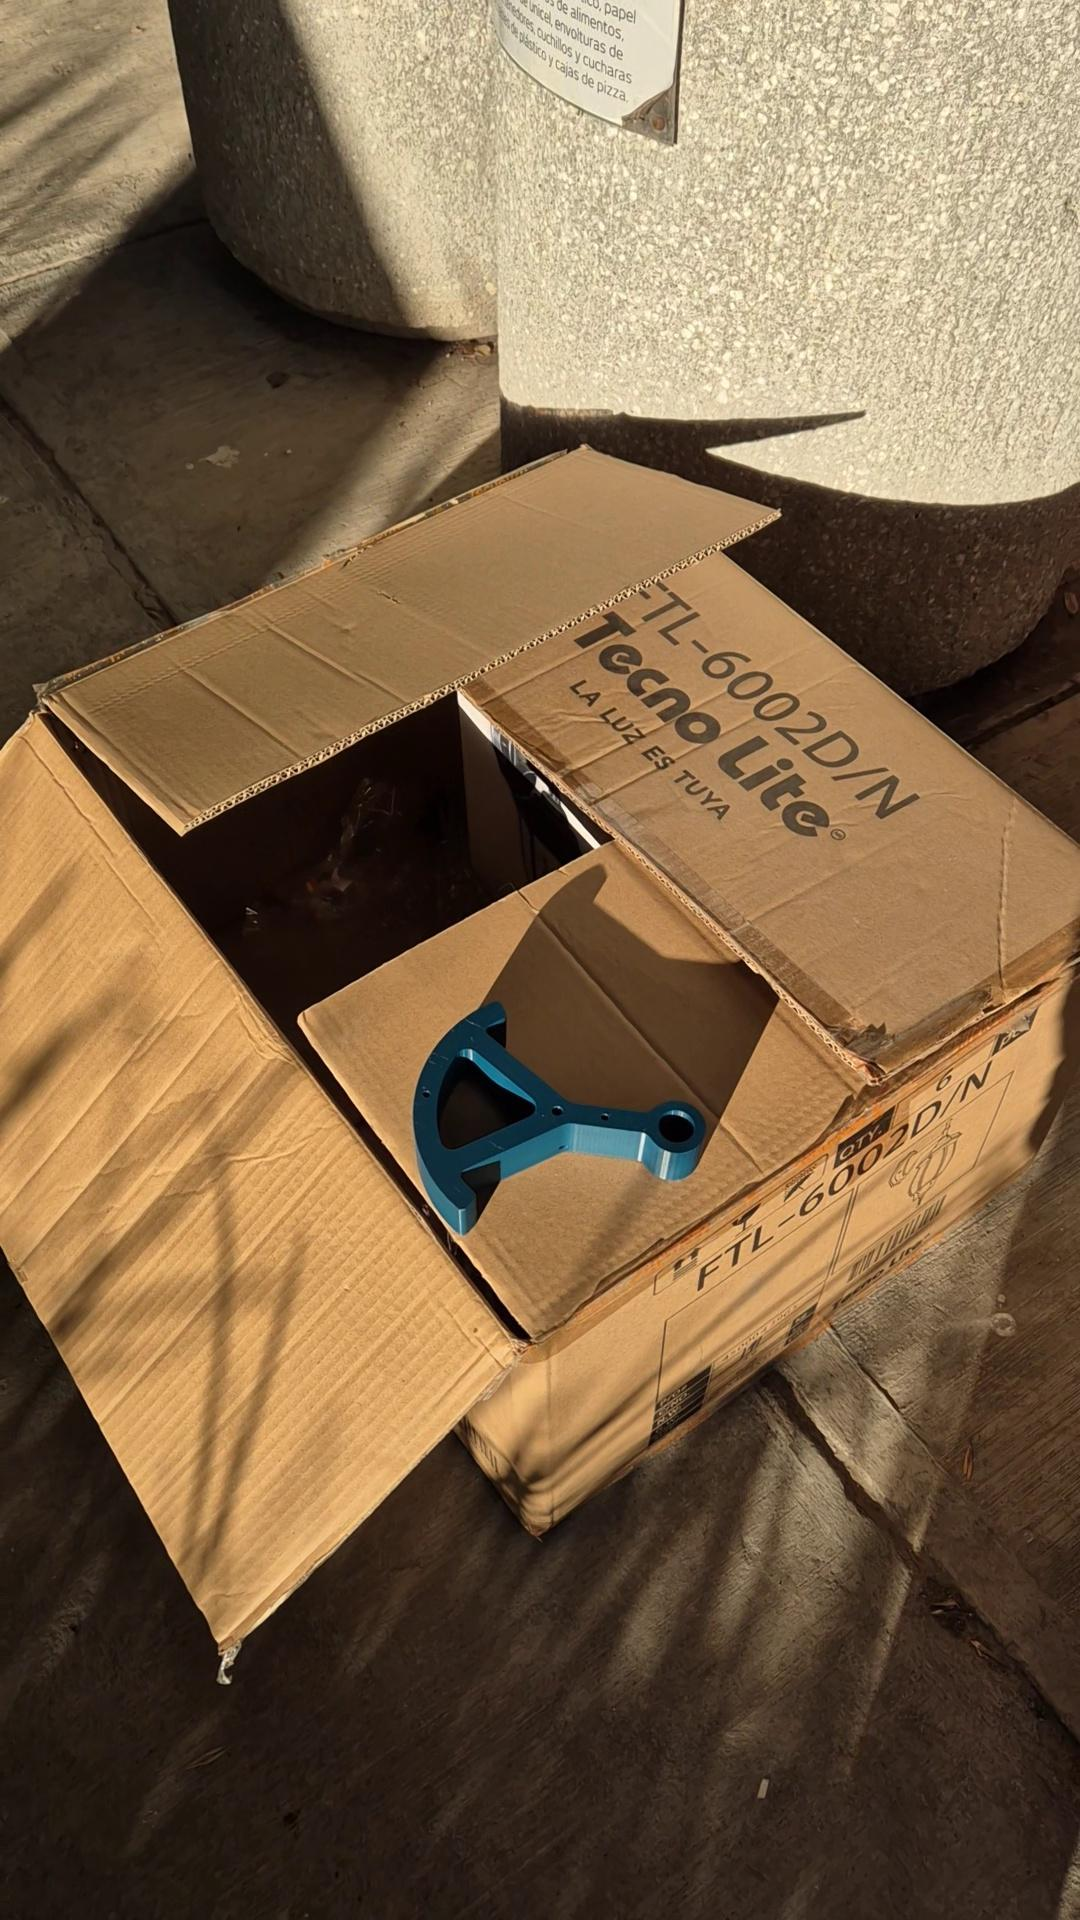Paddles: (410, 1000, 708, 1237)
